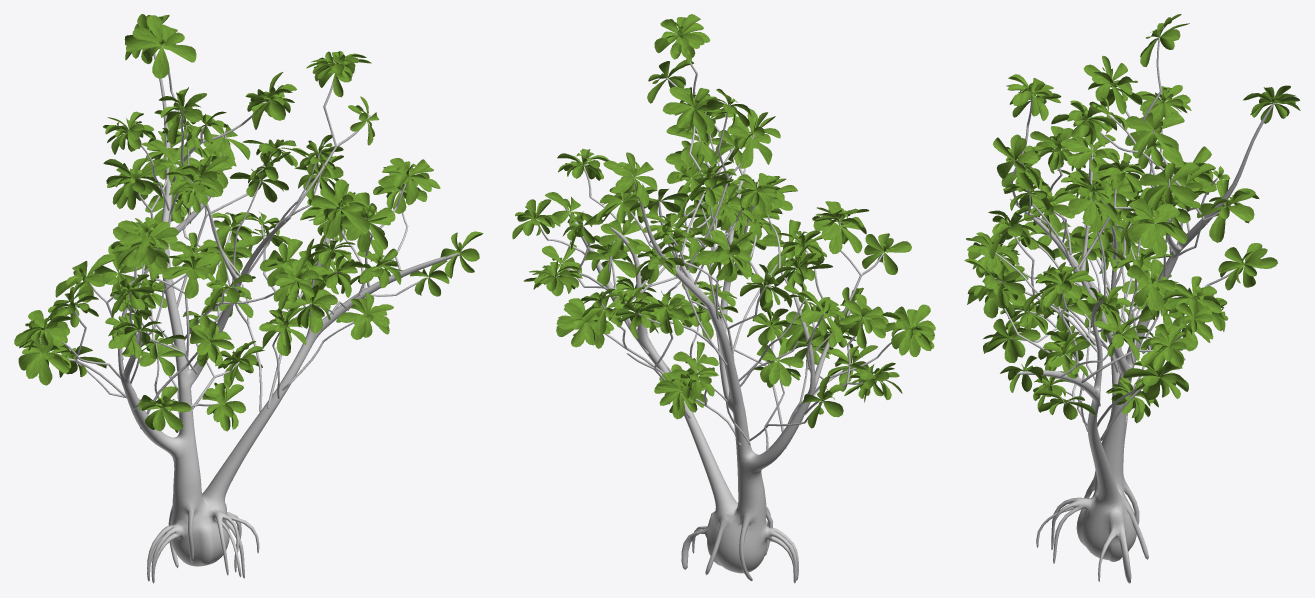
3 renders of one model, left to right at view 1: azimuth 30°, elevation 25°; view 2: azimuth 150°, elevation 25°; view 3: azimuth 270°, elevation 25°, orthographic. The views are drawn at different scales.
Visible parts, largest first — view 1: Leaves, TrunkandBranches, Branches, Flowers; view 2: Leaves, TrunkandBranches, Branches, Flowers; view 3: Leaves, TrunkandBranches, Branches, Flowers.
Part boxes in pixels (x1=…): Leaves: x1=14, y1=14, x2=483, y2=432; TrunkandBranches: x1=118, y1=47, x2=460, y2=583; Branches: x1=45, y1=46, x2=430, y2=429; Flowers: x1=29, y1=38, x2=417, y2=411; Leaves: x1=512, y1=14, x2=935, y2=428; TrunkandBranches: x1=564, y1=167, x2=857, y2=583; Branches: x1=535, y1=62, x2=891, y2=451; Flowers: x1=544, y1=24, x2=923, y2=400; Leaves: x1=964, y1=14, x2=1300, y2=423; TrunkandBranches: x1=1010, y1=102, x2=1274, y2=583; Branches: x1=994, y1=37, x2=1244, y2=440; Flowers: x1=981, y1=28, x2=1238, y2=403.
Size of the model in its own units: 57.23 by 66.55 by 37.64.
